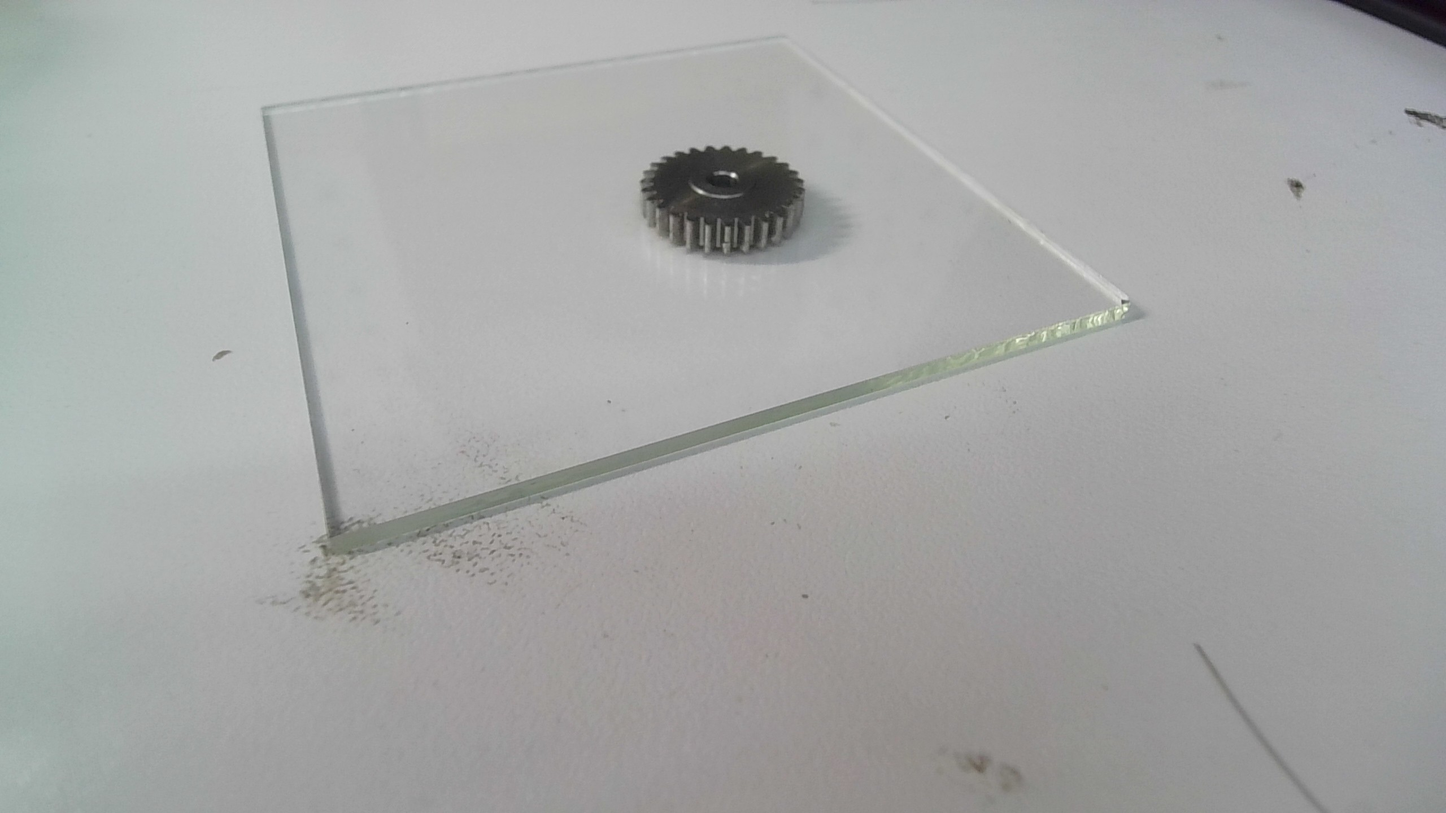gear: (634, 142, 808, 260)
